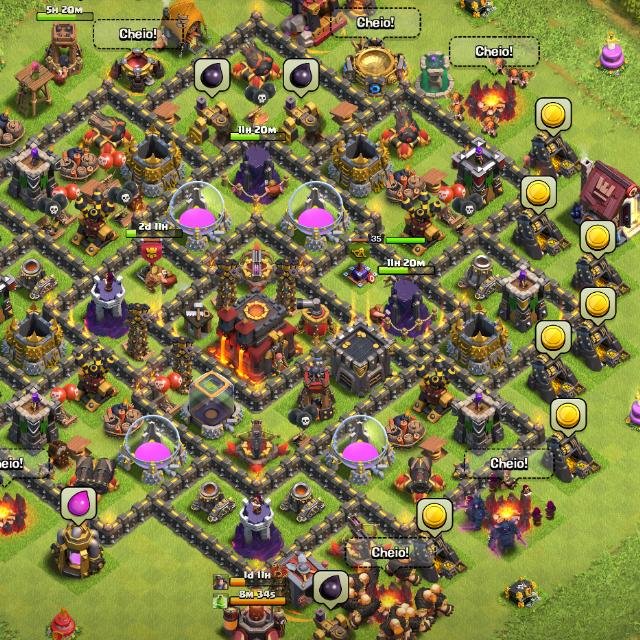Elixir: (60, 487, 97, 527)
ElixirNegro: (312, 570, 350, 612), (193, 58, 230, 99), (283, 58, 320, 98)
coin: (550, 397, 588, 438), (579, 220, 617, 260), (416, 498, 454, 538), (535, 97, 572, 137), (520, 176, 557, 216), (579, 286, 616, 326), (535, 320, 572, 360)
